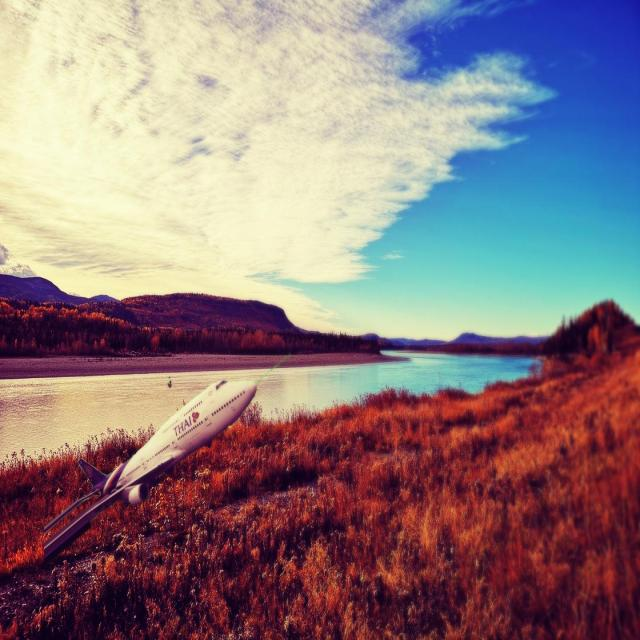airplane: (41, 378, 256, 554)
